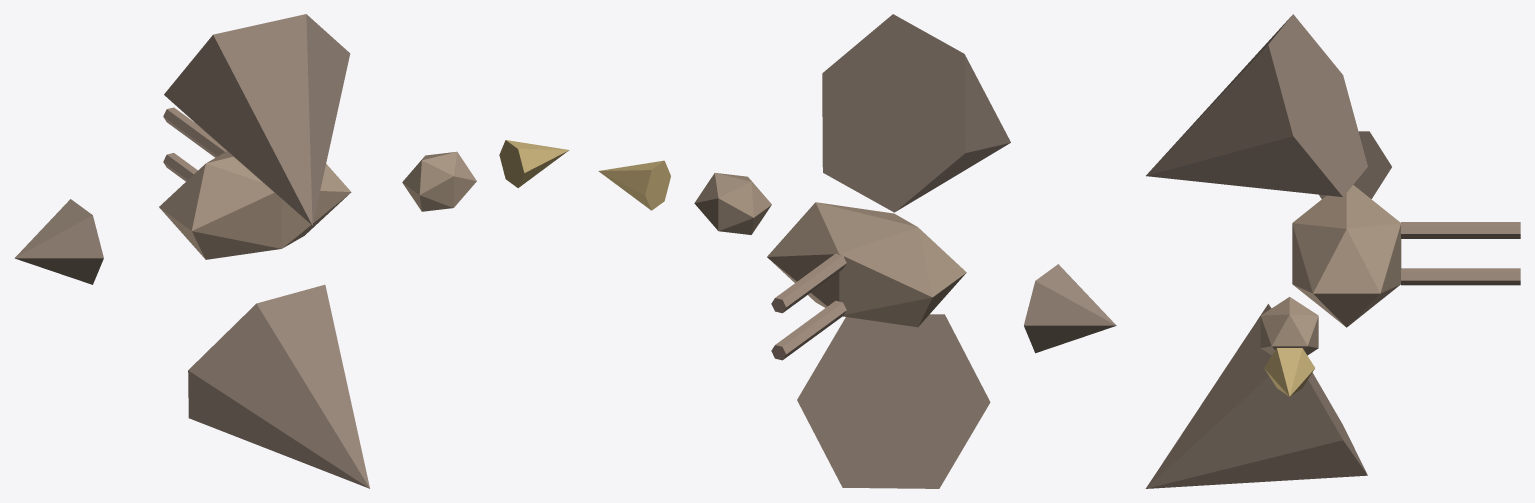
Rendered from hawk.glb.
3 renders of one model, left to right at view 1: azimuth 30°, elevation 25°; view 2: azimuth 150°, elevation 25°; view 3: azimuth 270°, elevation 25°, orthographic. The views are drawn at different scales.
Visible parts, largest first — view 1: world; view 2: world; view 3: world.
Part boxes in pixels (x1,y1,x2,y2): world: (14,14,569,488); world: (598,14,1116,488); world: (1145,14,1520,488).
Size of the model in its own units: 2.19 by 1.71 by 1.32.
